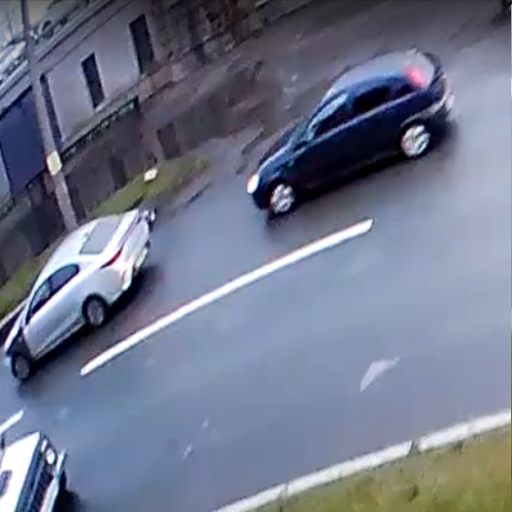Car: (247, 51, 461, 216), (2, 211, 154, 380)
